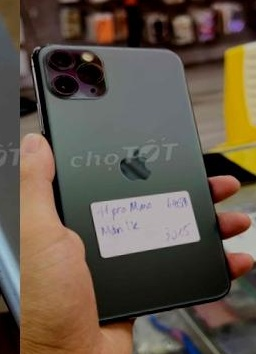scratch: (0, 264, 20, 340), (0, 143, 11, 221)
